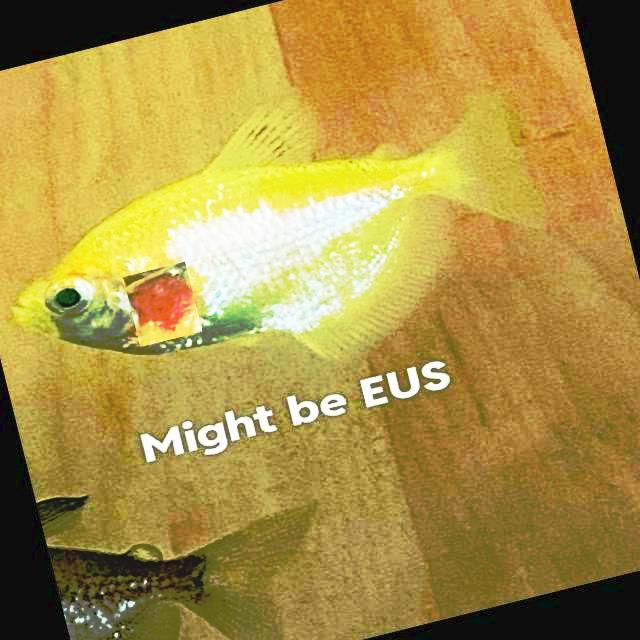Epizootic Ulcerative Syndrome -EUS-: (10, 90, 543, 364)
